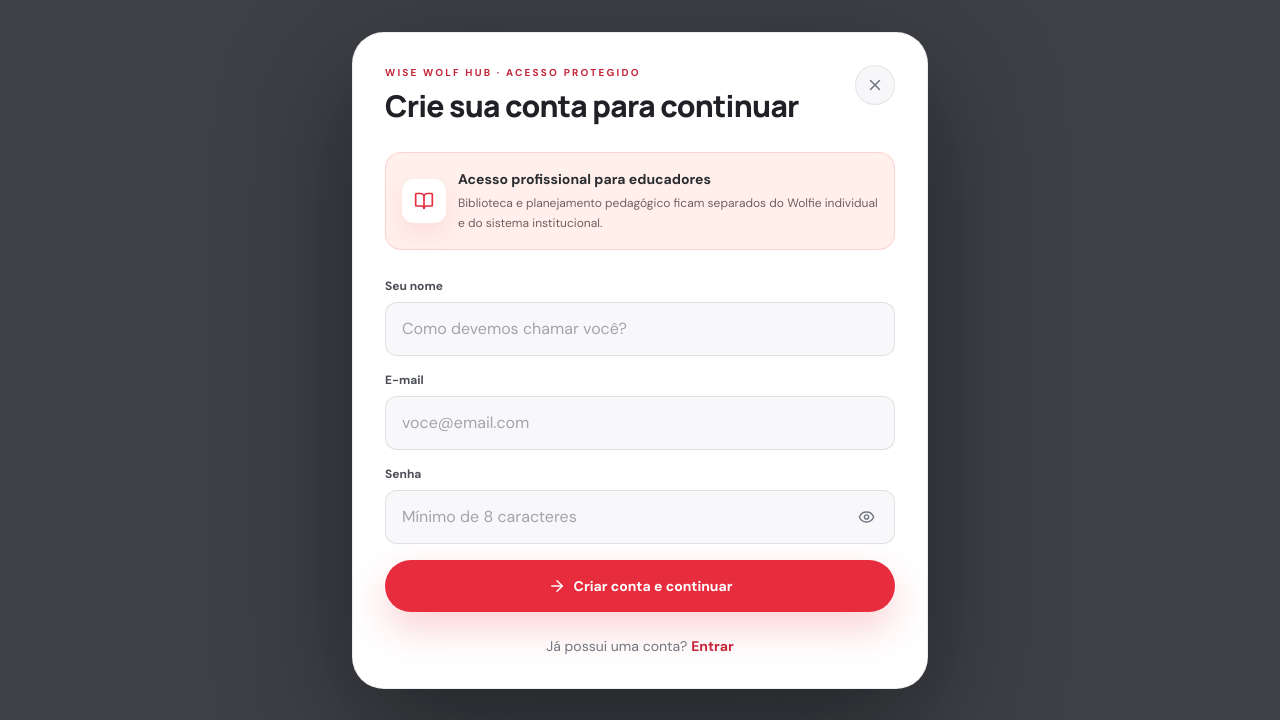
Test: Hub email confirmation checkout intent › carries plan and cycle in the safe redirect and avoids automatic activation claims
The width and height of the screenshot is (1280, 720).
Type "Maria Educadora" into the field labelled "Seu nome" at (640, 328), box [385,302,895,356]
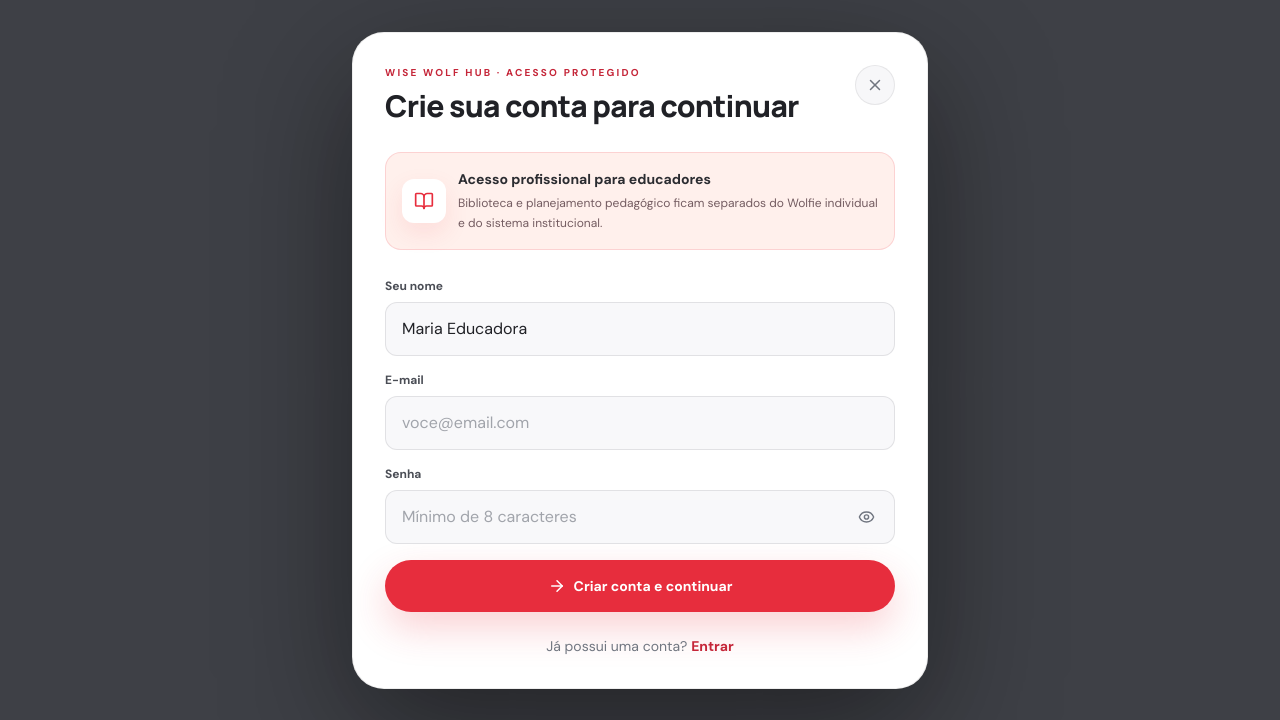
Type "maria@example.com" into the field labelled "E-mail" at (640, 422), box [385,396,895,450]
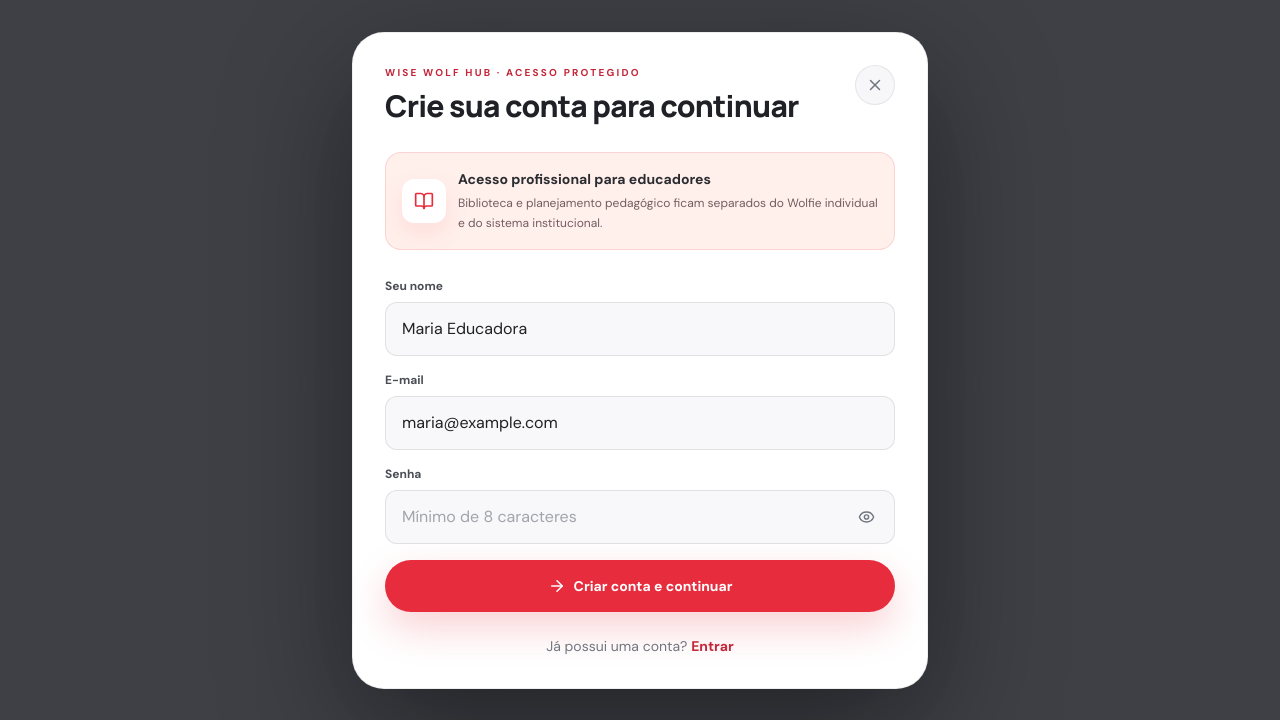
Type "senha-segura" into the password field labelled "Senha" at (640, 516), box [385,490,895,544]
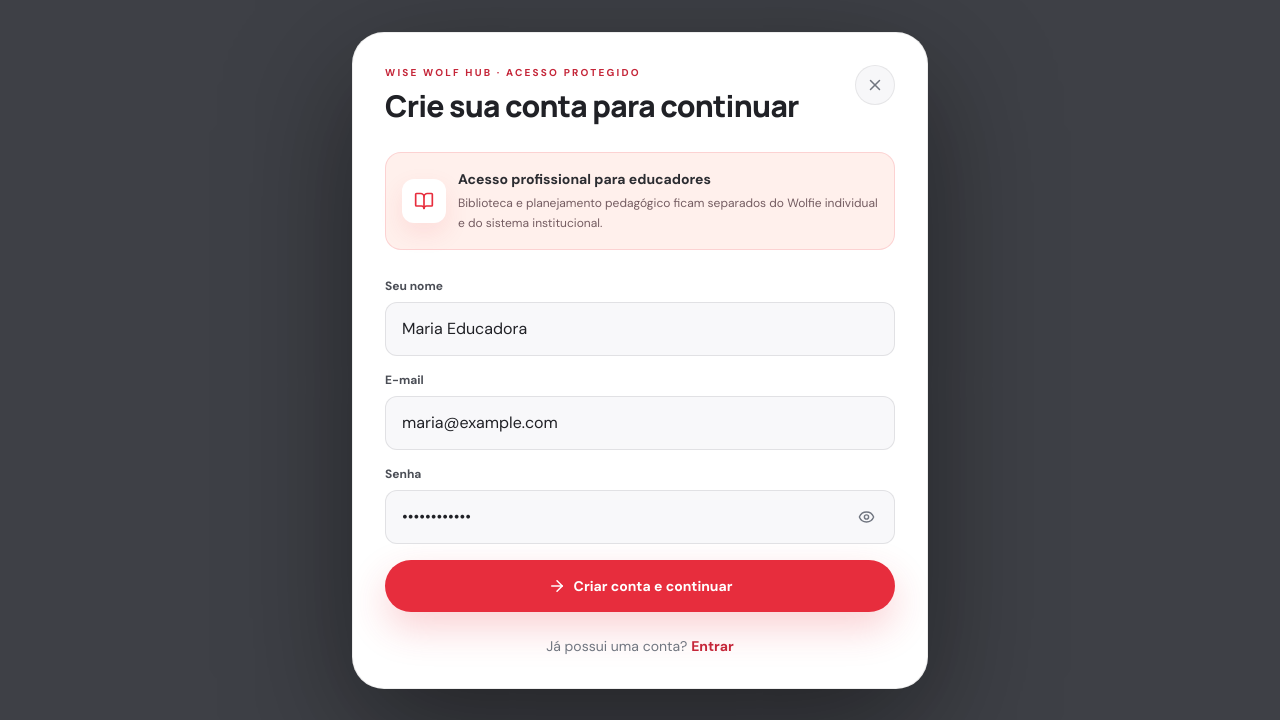
Click the button "Criar conta e continuar" at (640, 586), box [385,560,895,612]
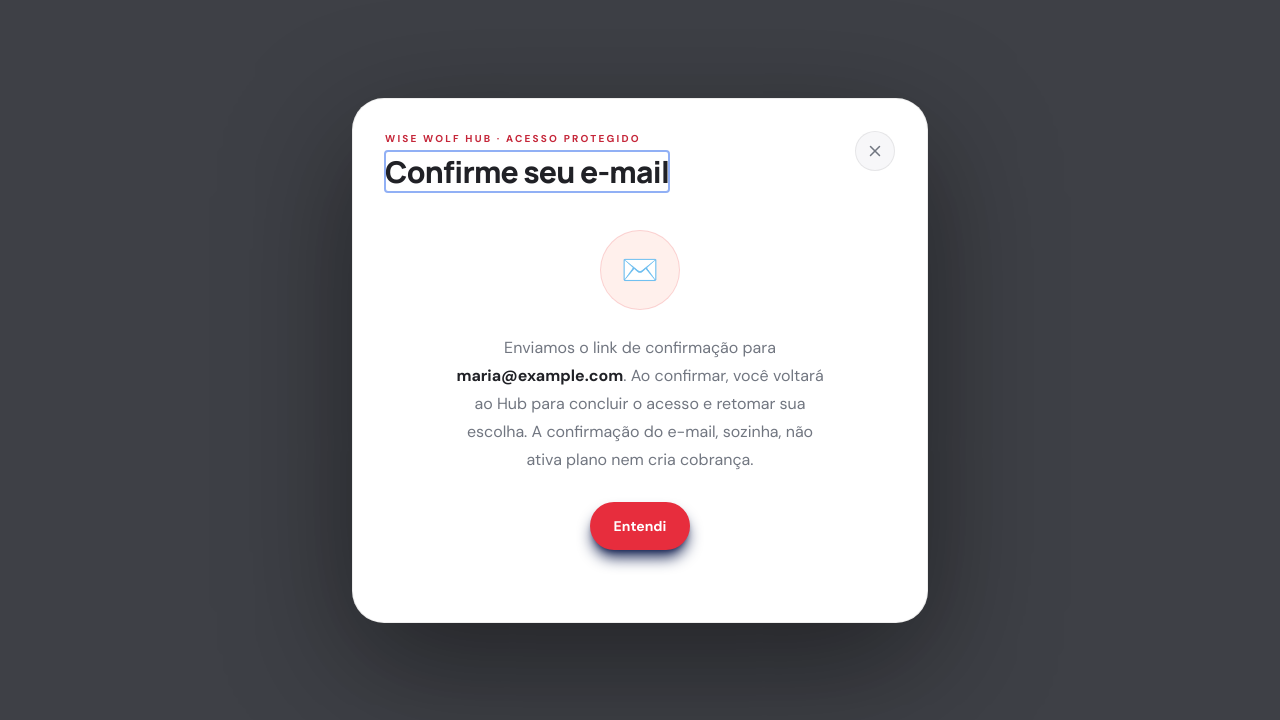
Expected: the text "A confirmação do e-mail, sozinha, não ativa plano nem cria cobrança" is shown, [467,364,824,470]
